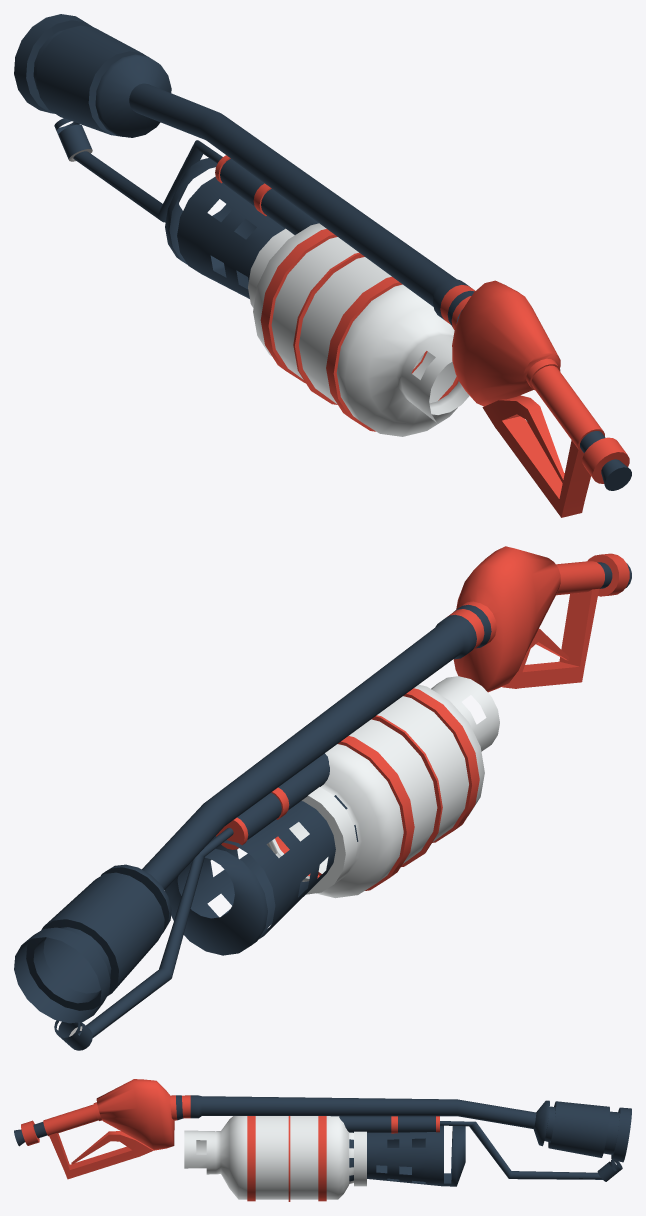
Rendered from LowPolyFlamethrower.dae.
3 renders of one model, top to bottom at view 1: azimuth 30°, elevation 25°; view 2: azimuth 150°, elevation 25°; view 3: azimuth 270°, elevation 25°, orthographic. The views are drawn at different scales.
Parts seen in each view (by area): view 1: flamethrower; view 2: flamethrower; view 3: flamethrower.
Boxes of the visible parts, left/top/right/bottom form: flamethrower: left=14, top=14, right=631, bottom=517; flamethrower: left=14, top=546, right=631, bottom=1050; flamethrower: left=14, top=1079, right=631, bottom=1201.
Bounding box in the file's own units: 110 × 152 × 730.
